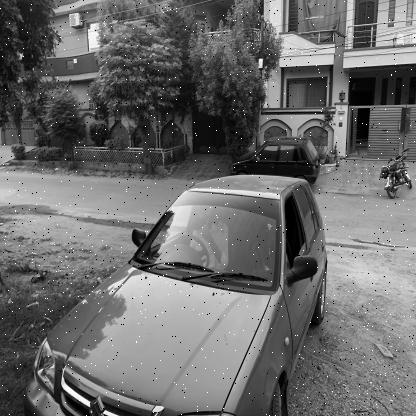no_seatbelt: (186, 205, 216, 259)
